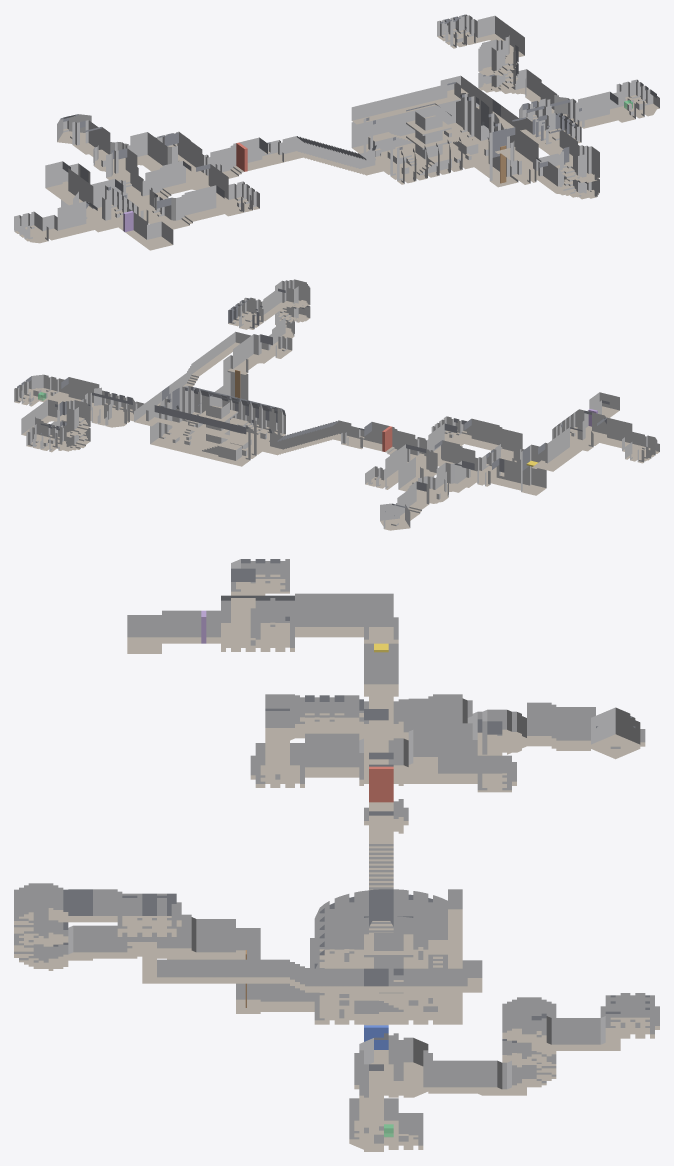
The picture shows the model from 3 angles, top to bottom: view 1: azimuth 30°, elevation 25°; view 2: azimuth 150°, elevation 25°; view 3: azimuth 270°, elevation 25°; orthographic projection. The views are drawn at different scales.
Parts seen in each view (by area): view 1: room_5_megaroom.structure, corridor_4.structure, corridor_20.structure, corridor_21.structure, room_5_megaroom.landmark, room_20_spiral.structure, room_19_spiral.structure, corridor_1.structure, room_5_megaroom.members, room_1_hub.structure, corridor_19.structure, corridor_3.structure (+35 smaller); view 2: room_5_megaroom.structure, corridor_21.structure, corridor_20.structure, room_5_megaroom.members, corridor_4.structure, room_19_spiral.structure, room_1_hub.structure, room_20_spiral.structure, room_6_hub.structure, room_7_exit.structure, corridor_1.structure, corridor_16.structure (+26 smaller); view 3: room_5_megaroom.structure, corridor_21.structure, corridor_1.structure, room_19_spiral.structure, room_20_spiral.structure, corridor_13.structure, room_6_hub.structure, corridor_8.structure, room_1_hub.structure, corridor_16.structure, corridor_19.structure, room_7_exit.structure (+28 smaller).
Boxes of the visible parts, left/top/right/bottom form: room_5_megaroom.structure: left=351, top=82, right=503, bottom=184; corridor_4.structure: left=282, top=136, right=374, bottom=175; corridor_20.structure: left=157, top=185, right=224, bottom=229; corridor_21.structure: left=440, top=75, right=559, bottom=171; room_5_megaroom.landmark: left=406, top=103, right=451, bottom=163; room_20_spiral.structure: left=478, top=39, right=518, bottom=93; room_19_spiral.structure: left=560, top=145, right=599, bottom=199; corridor_1.structure: left=45, top=161, right=93, bottom=210; room_5_megaroom.members: left=363, top=93, right=500, bottom=183; room_1_hub.structure: left=73, top=184, right=138, bottom=232; corridor_19.structure: left=130, top=132, right=187, bottom=175; corridor_3.structure: left=210, top=137, right=267, bottom=178; room_5_megaroom.structure: left=150, top=385, right=285, bottom=466; corridor_21.structure: left=134, top=331, right=266, bottom=426; corridor_20.structure: left=464, top=418, right=522, bottom=459; room_5_megaroom.members: left=159, top=386, right=283, bottom=459; corridor_4.structure: left=270, top=420, right=351, bottom=455; room_19_spiral.structure: left=275, top=279, right=310, bottom=334; room_1_hub.structure: left=552, top=409, right=606, bottom=451; room_20_spiral.structure: left=55, top=400, right=90, bottom=451; room_6_hub.structure: left=80, top=387, right=135, bottom=427; room_7_exit.structure: left=14, top=374, right=68, bottom=406; corridor_1.structure: left=538, top=427, right=582, bottom=471; corridor_16.structure: left=233, top=334, right=272, bottom=371; room_5_megaroom.structure: left=314, top=889, right=462, bottom=1024; corridor_21.structure: left=142, top=958, right=482, bottom=992; corridor_1.structure: left=295, top=593, right=393, bottom=639; room_19_spiral.structure: left=14, top=883, right=68, bottom=970; room_20_spiral.structure: left=502, top=997, right=556, bottom=1087; corridor_13.structure: left=428, top=1060, right=526, bottom=1095; room_6_hub.structure: left=359, top=1033, right=428, bottom=1097; corridor_8.structure: left=527, top=702, right=595, bottom=750; room_1_hub.structure: left=221, top=600, right=294, bottom=651; corridor_16.structure: left=162, top=914, right=235, bottom=959; corridor_19.structure: left=408, top=719, right=502, bottom=773; room_7_exit.structure: left=349, top=1098, right=423, bottom=1149.
Bounding box in the file's own units: 233 × 28 × 131.
